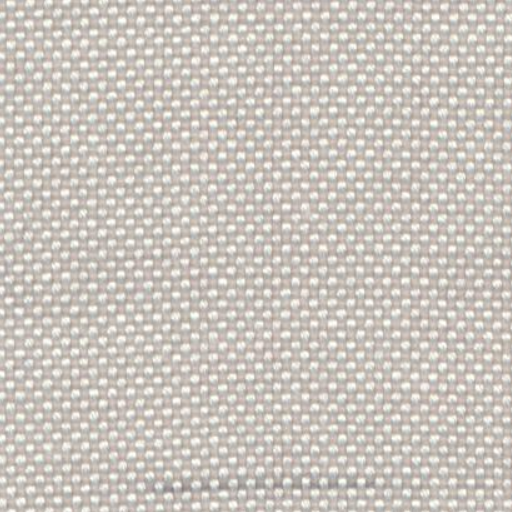WuZi: (157, 472, 354, 490)
